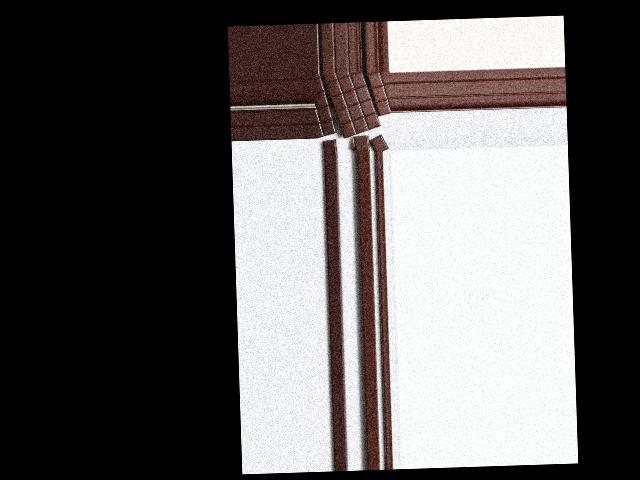chocolate: (324, 70, 382, 138)
